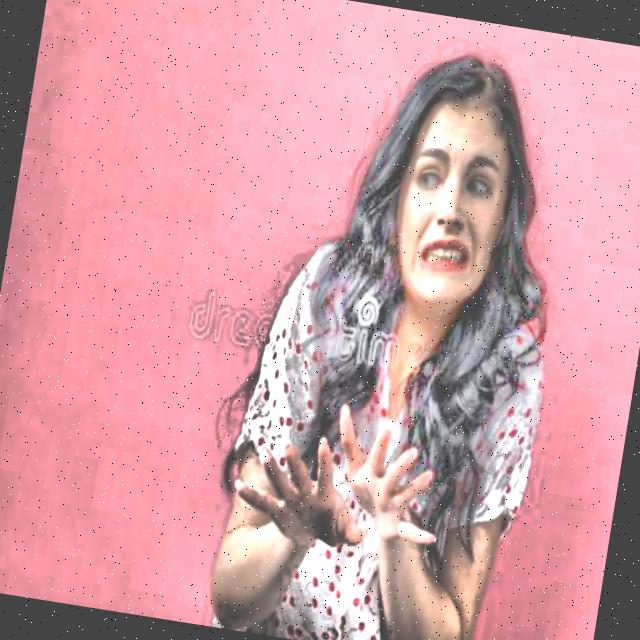disgust: (360, 42, 549, 347)
